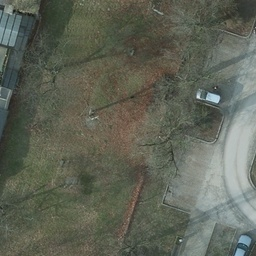car: (195, 87, 221, 104)
